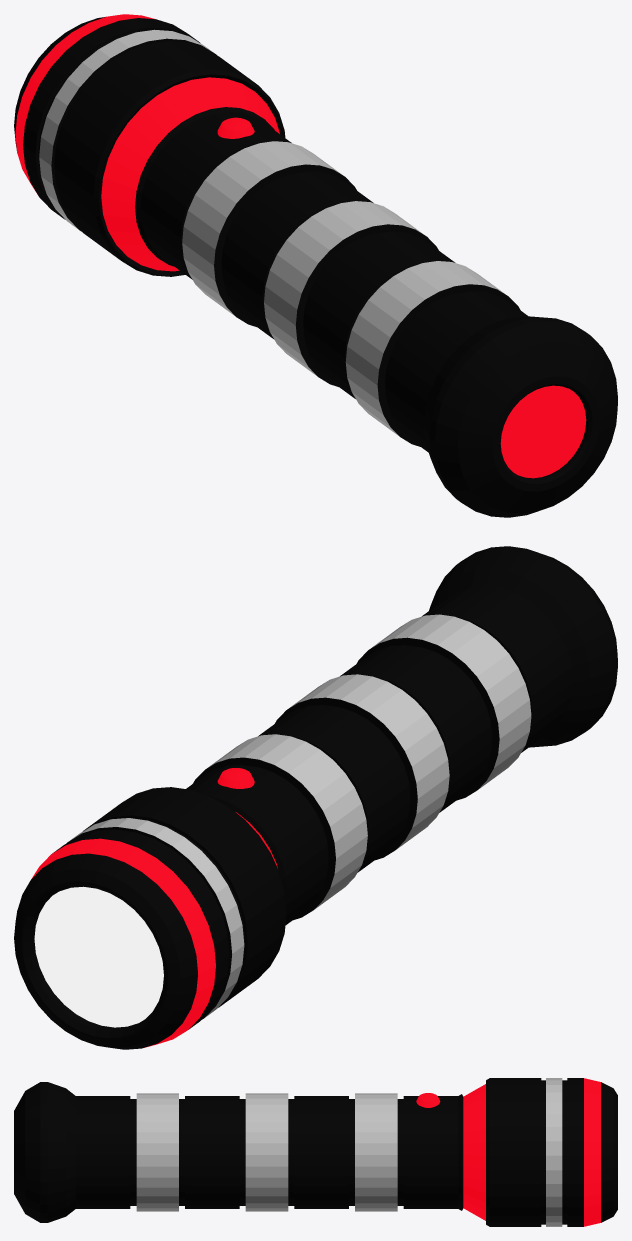
The model's file is LOW_POLY_LANTERN.glb.
3 renders of one model, top to bottom at view 1: azimuth 30°, elevation 25°; view 2: azimuth 150°, elevation 25°; view 3: azimuth 270°, elevation 25°, orthographic. The views are drawn at different scales.
Parts seen in each view (by area): view 1: LANTERN; view 2: LANTERN, EMISSION; view 3: LANTERN, BOTON.
Part boxes in pixels (left/top/right/bottom): LANTERN: left=14, top=14, right=617, bottom=517; LANTERN: left=14, top=546, right=617, bottom=1049; EMISSION: left=34, top=886, right=163, bottom=1027; LANTERN: left=14, top=1078, right=617, bottom=1226; BOTON: left=416, top=1093, right=440, bottom=1107.
Size of the model in its own units: 2 by 2 by 8.11.
